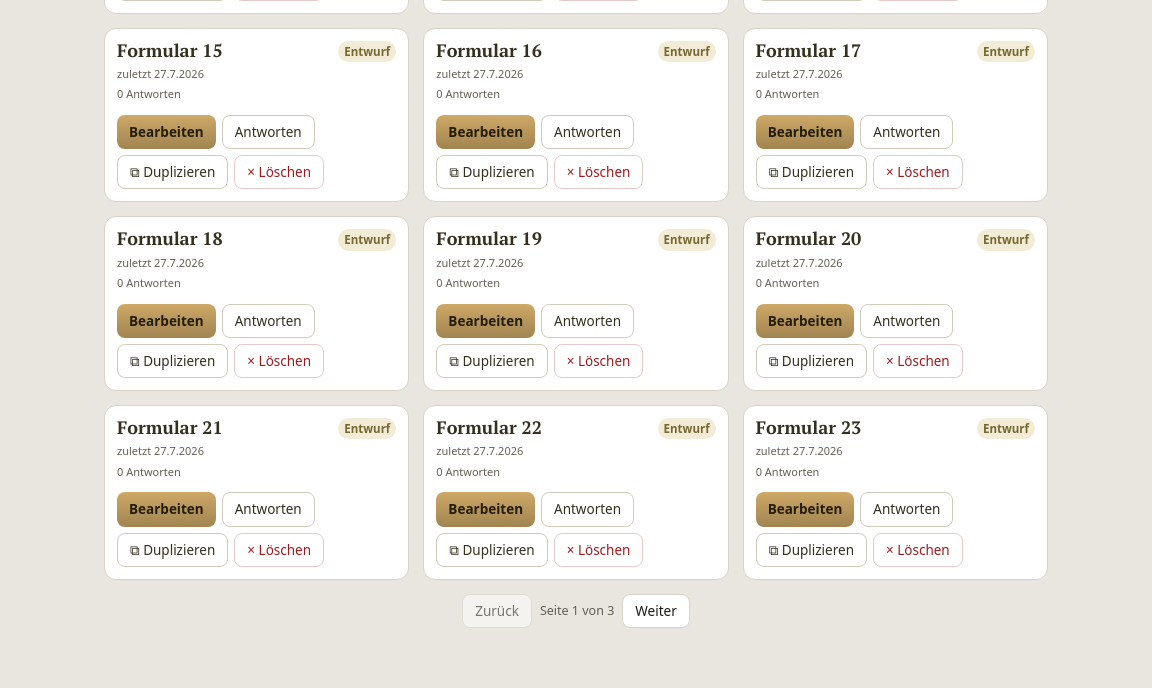
Test: DashboardView › page, search and counter › keeps focus somewhere when the pressed pager button disables itself
The image size is (1152, 688).
(page scrolled)
Expected: the text "Seite 1 von 3" is shown, [540,602,614,620]
Click the button with aria-label "Nächste Seite der Formularliste" at x=656, y=611, box [622,594,690,628]
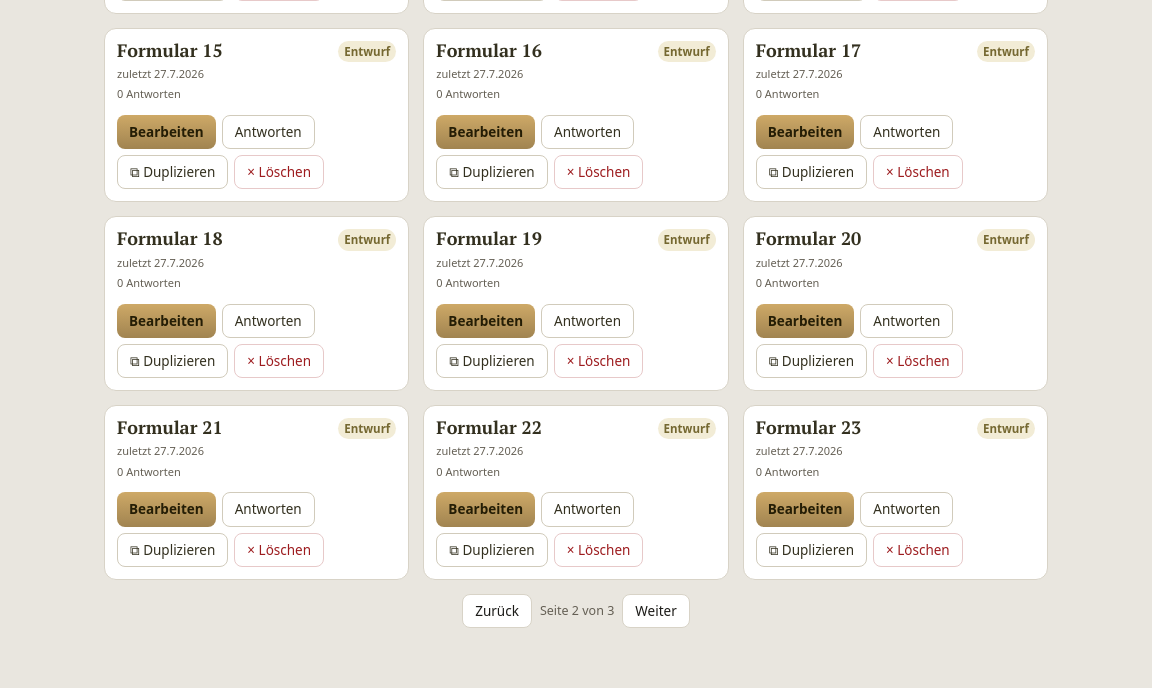
Expected: the text "Seite 2 von 3" is shown, [540,602,614,620]
# Page two of three — „Weiter" is still live, focus is nobody's problem.
Click the button with aria-label "Nächste Seite der Formularliste" at x=656, y=611, box [622,594,690,628]
(page scrolled)
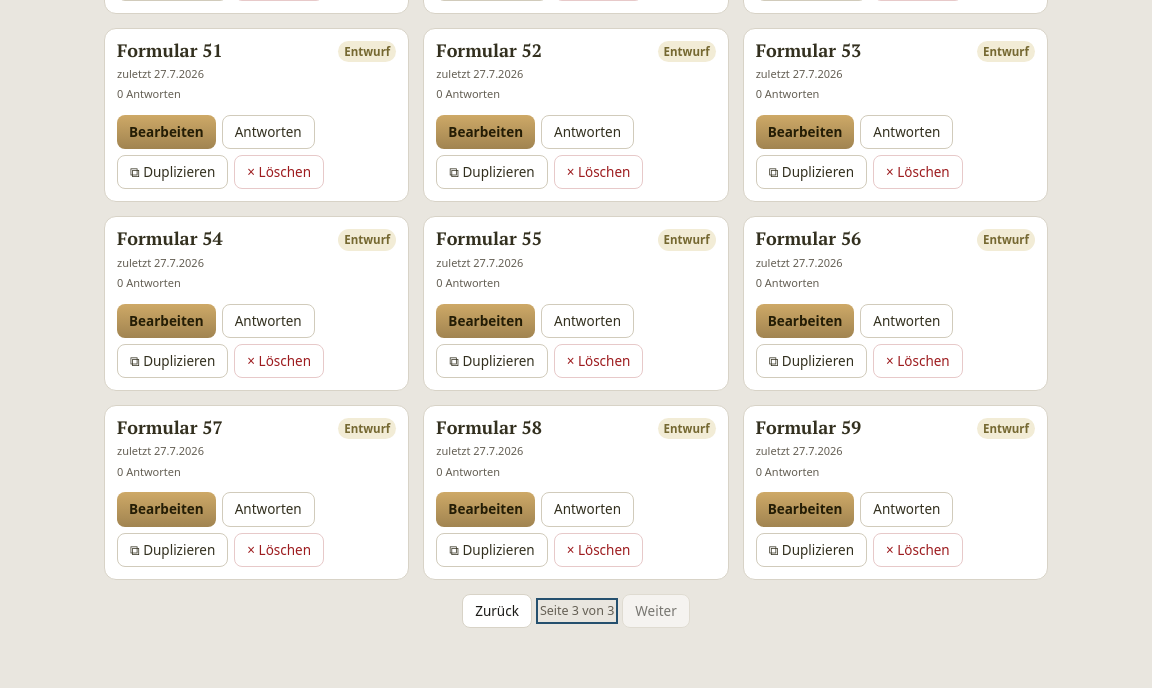
Expected: the text "Seite 3 von 3" is shown, [540,602,614,620]
Expected: the button with aria-label "Nächste Seite der Formularliste" is disabled, [622,594,690,628]
